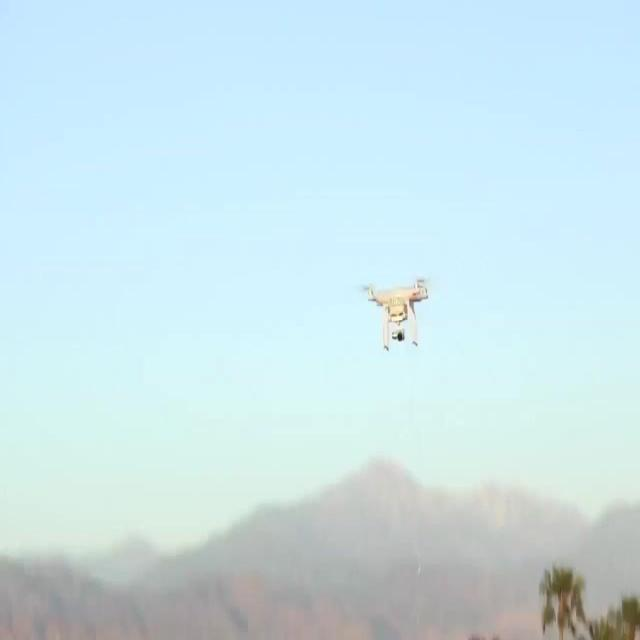drone: (359, 270, 432, 352)
